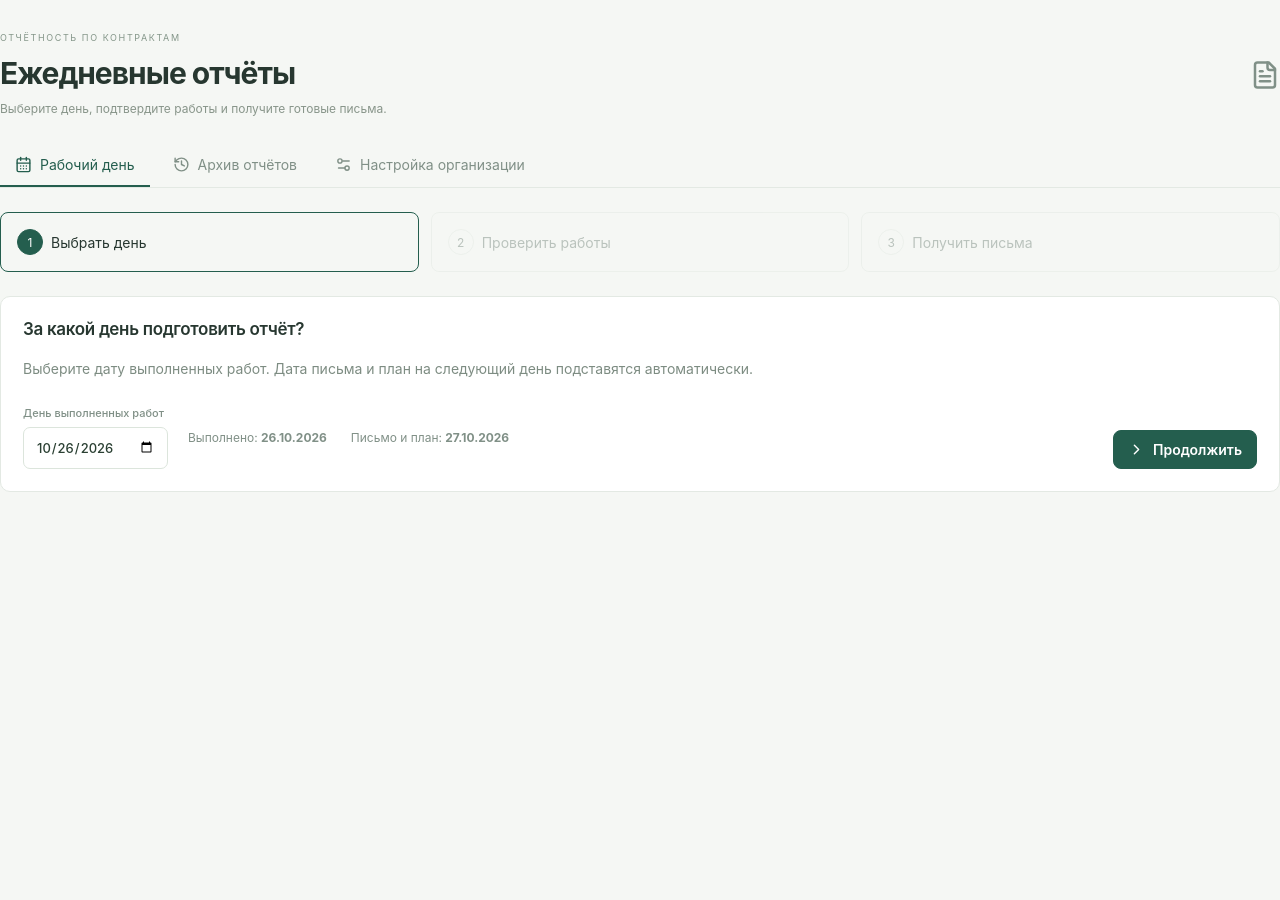
loads only photographs already included in the checked day
Click the button "Продолжить".
click(1185, 450)  # box [1113,430,1257,469]
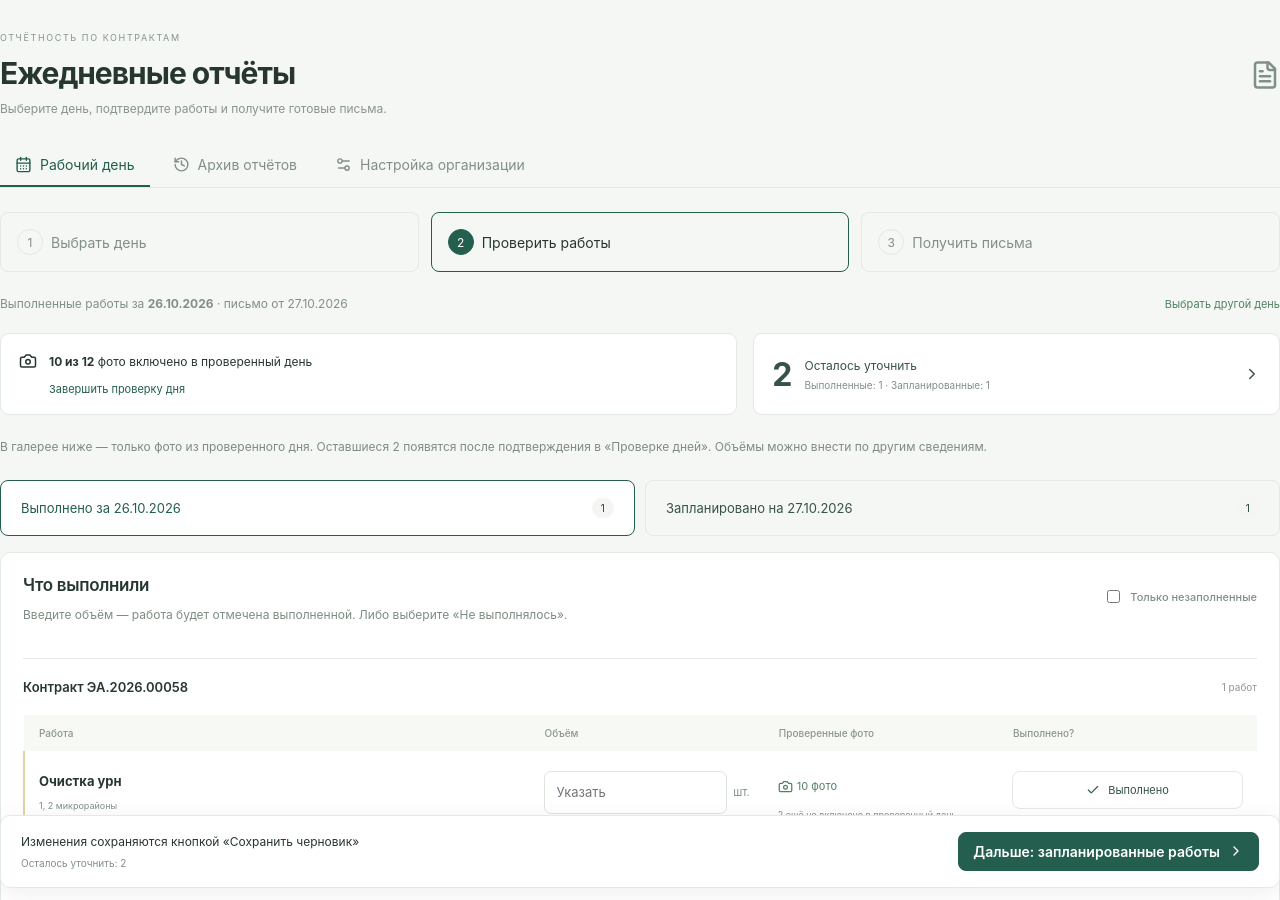
Now the button "10 фото" is shown
Click the button "10 фото".
click(807, 786)  # box [778,771,837,801]
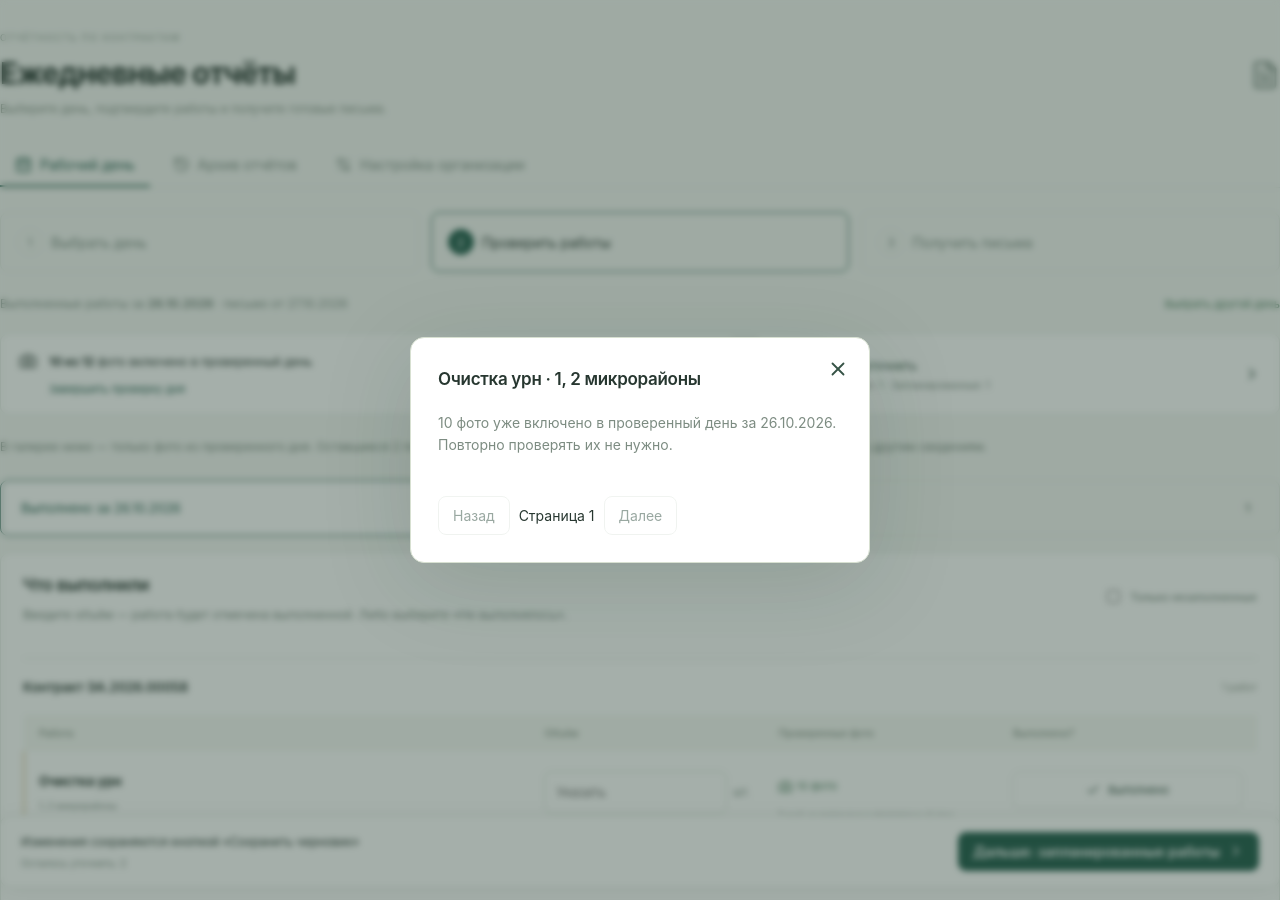
Now the text "Повторно проверять их не нужно" is shown, box [438,414,836,453]
